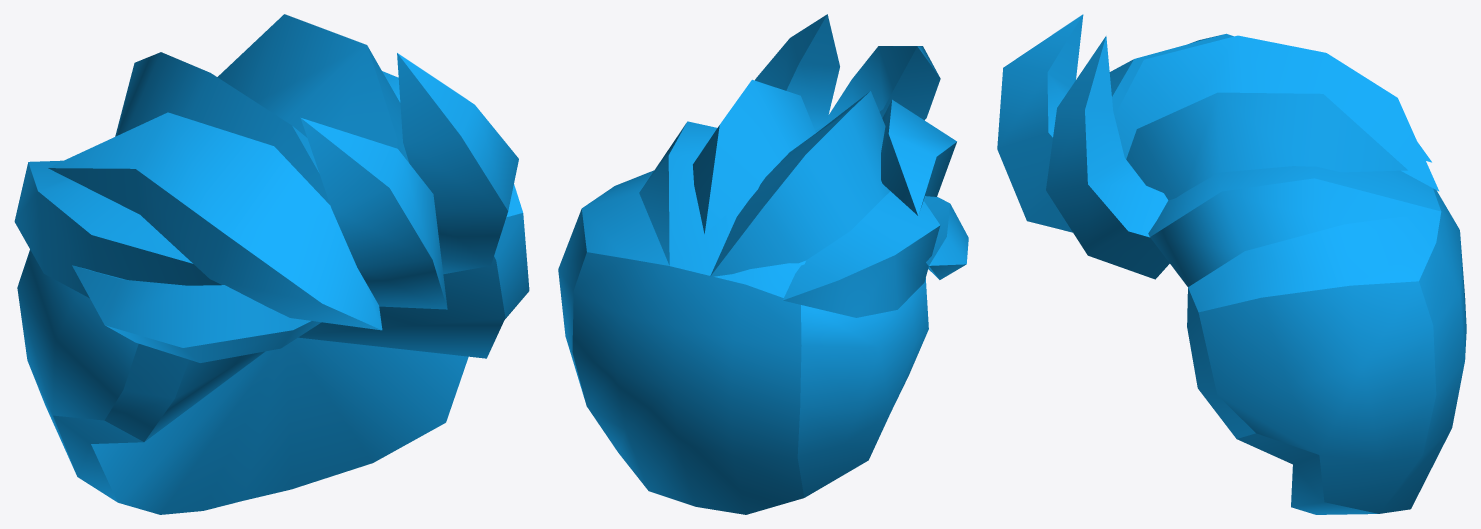
The model's file is Male_Hairs_06_v3.fbx.
3 renders of one model, left to right at view 1: azimuth 30°, elevation 25°; view 2: azimuth 150°, elevation 25°; view 3: azimuth 270°, elevation 25°, orthographic. The views are drawn at different scales.
Parts seen in each view (by area): view 1: Male_Hairs_06_v3; view 2: Male_Hairs_06_v3; view 3: Male_Hairs_06_v3.
Boxes of the visible parts, x1=… form: Male_Hairs_06_v3: x1=14, y1=14, x2=529, y2=514; Male_Hairs_06_v3: x1=558, y1=14, x2=968, y2=514; Male_Hairs_06_v3: x1=997, y1=14, x2=1466, y2=514.
Bounding box in the file's own units: 69.14 × 78.91 × 72.59.
